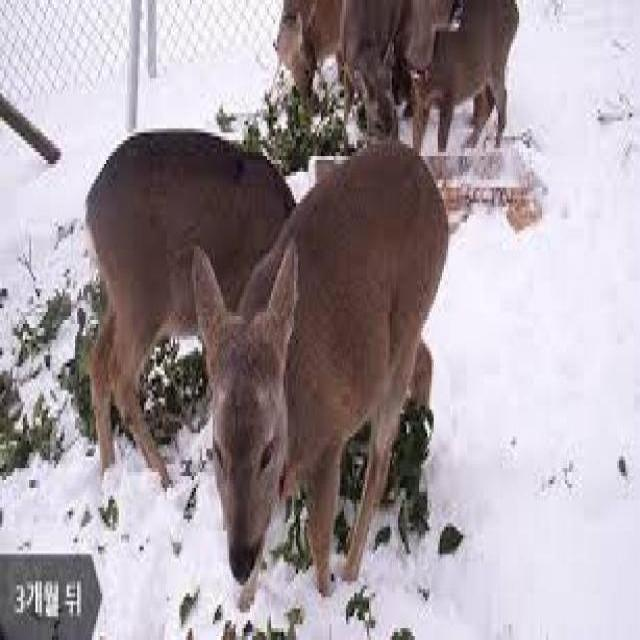deer: (190, 132, 460, 603)
